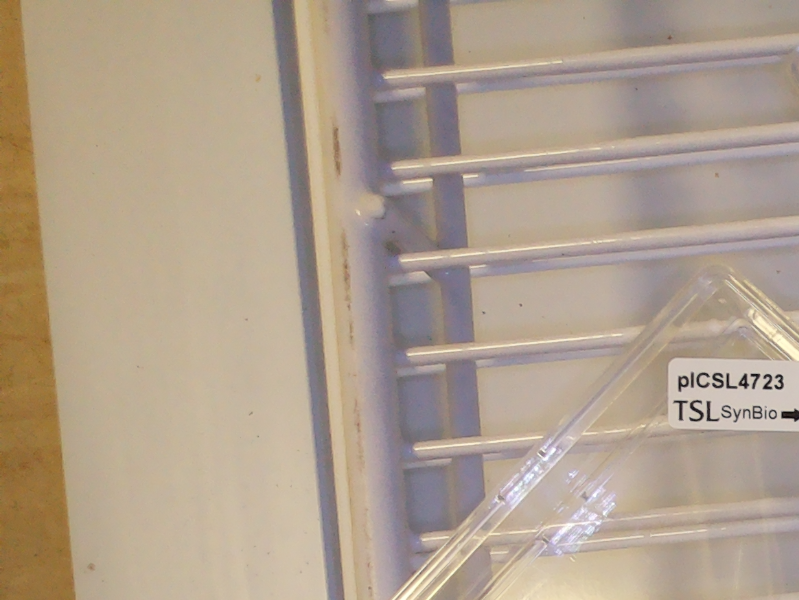plate: (389, 260, 798, 600)
